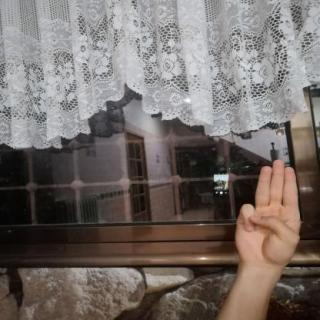THA: (224, 156, 307, 270)
